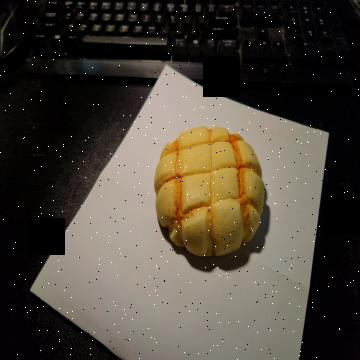melon_bread: (155, 126, 266, 258)
